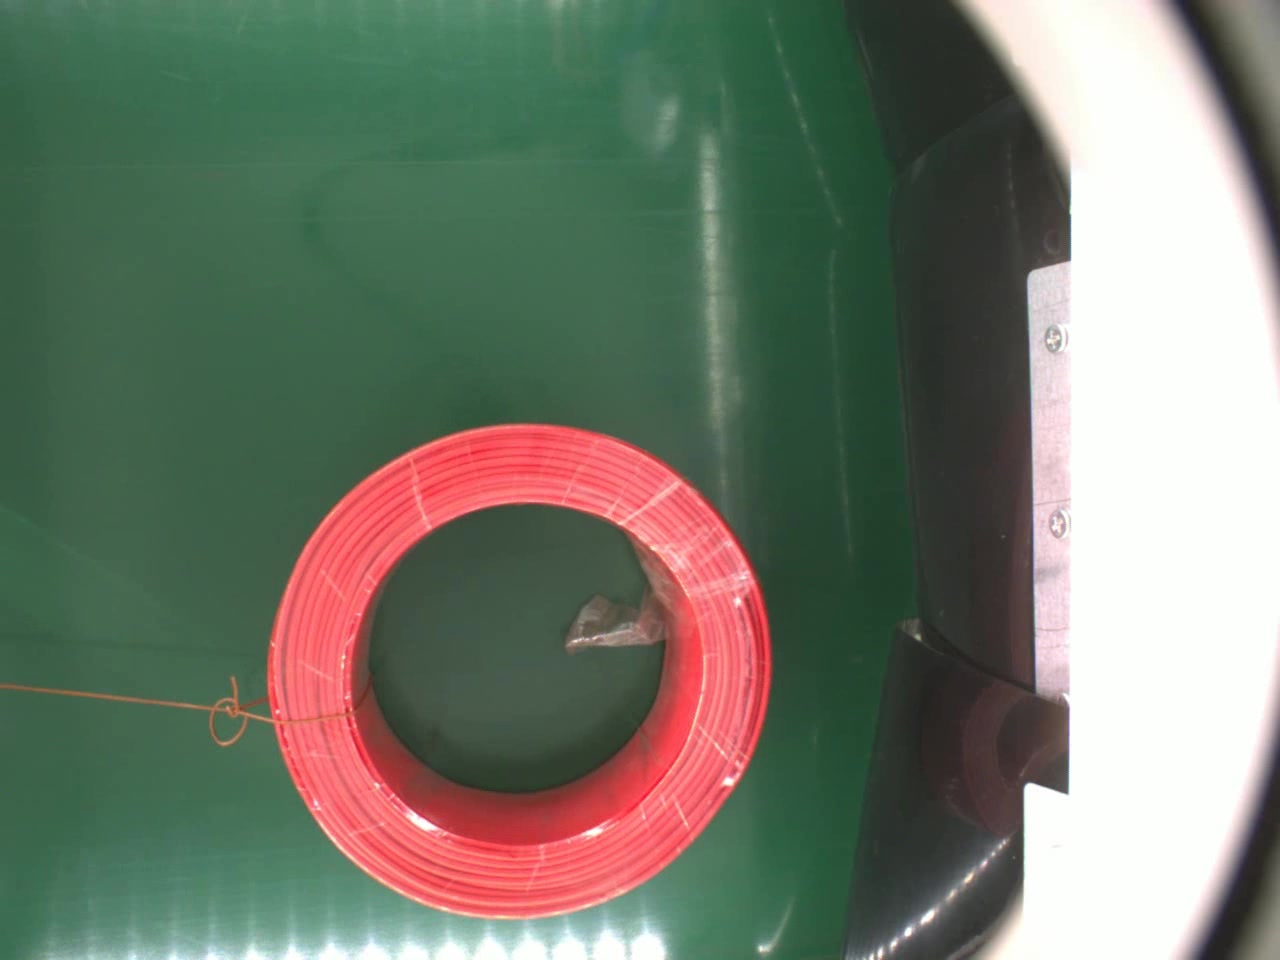red: (260, 421, 779, 922)
